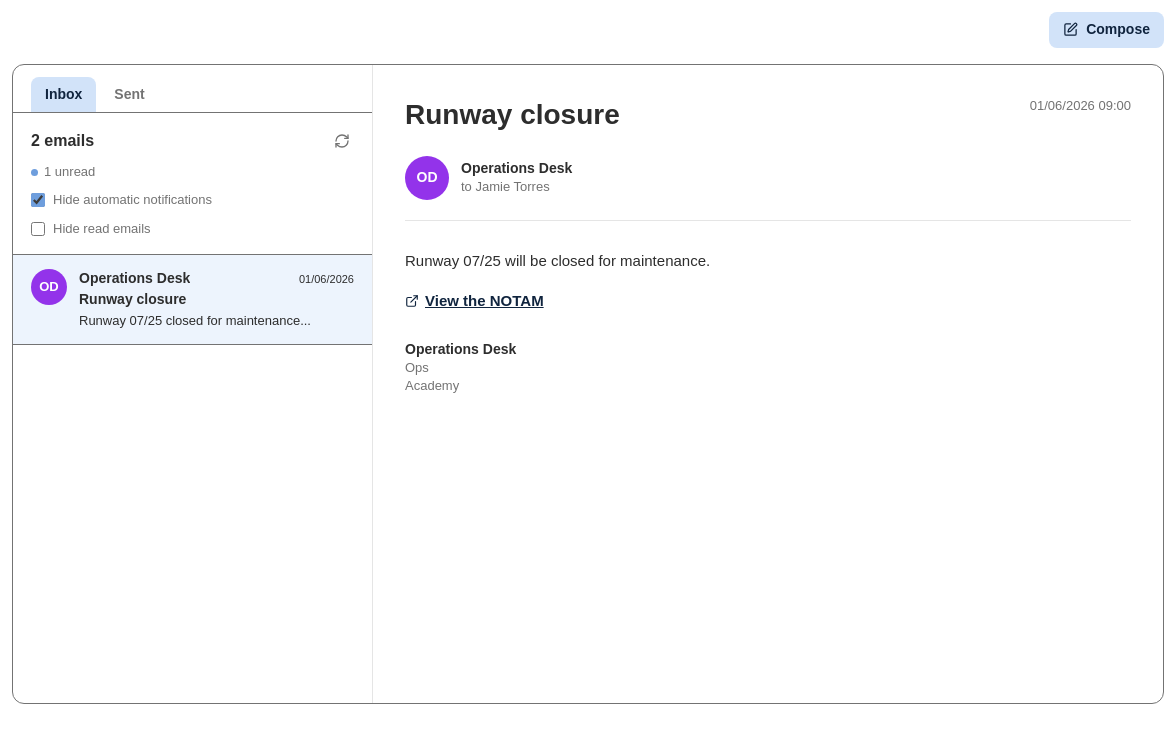
Scenario: Mailbox › hides read emails when the hide-read filter is checked
What coordinates should you click on to do the following:
click the checkbox labelled "Hide automatic notifications"
I would click on:
 (38, 200)
Its box is [31,194,45,208].
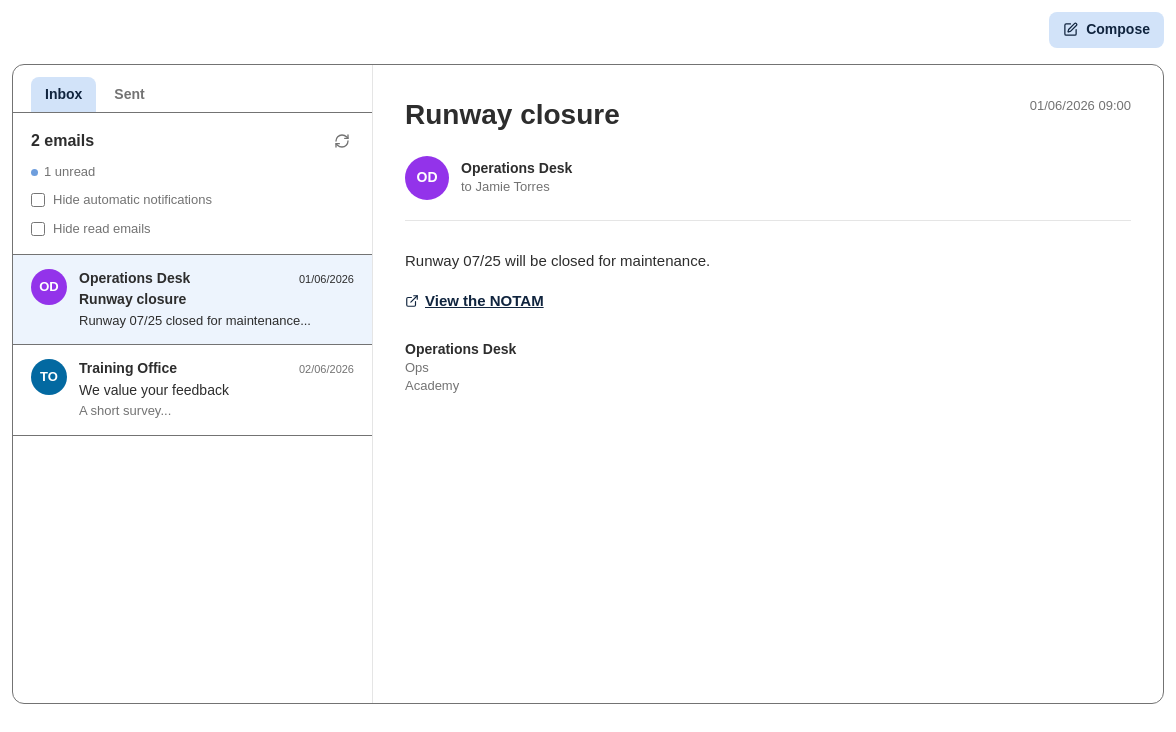
What coordinates should you click on to do the following:
click the checkbox labelled "Hide read emails"
I would click on:
 (38, 229)
Its box is [31,222,45,236].
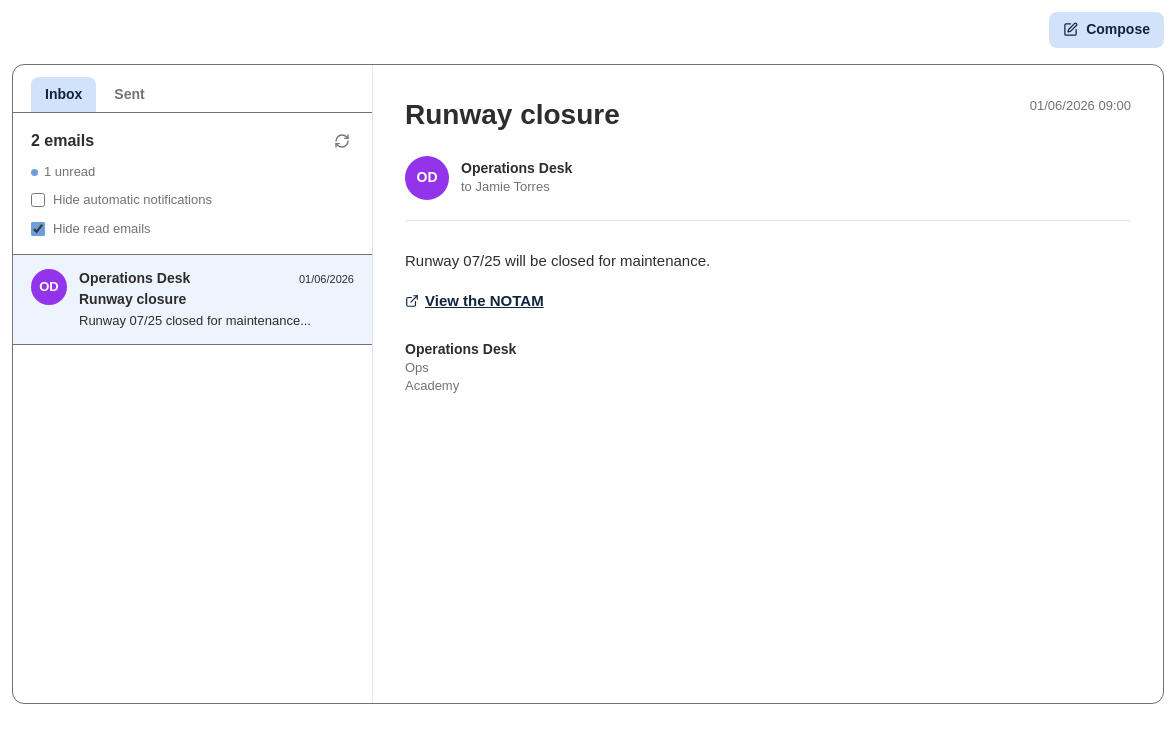
Check: the button "Operations Desk" is shown, box [13,255,372,345]
Check: the button "Training Office" is gone
